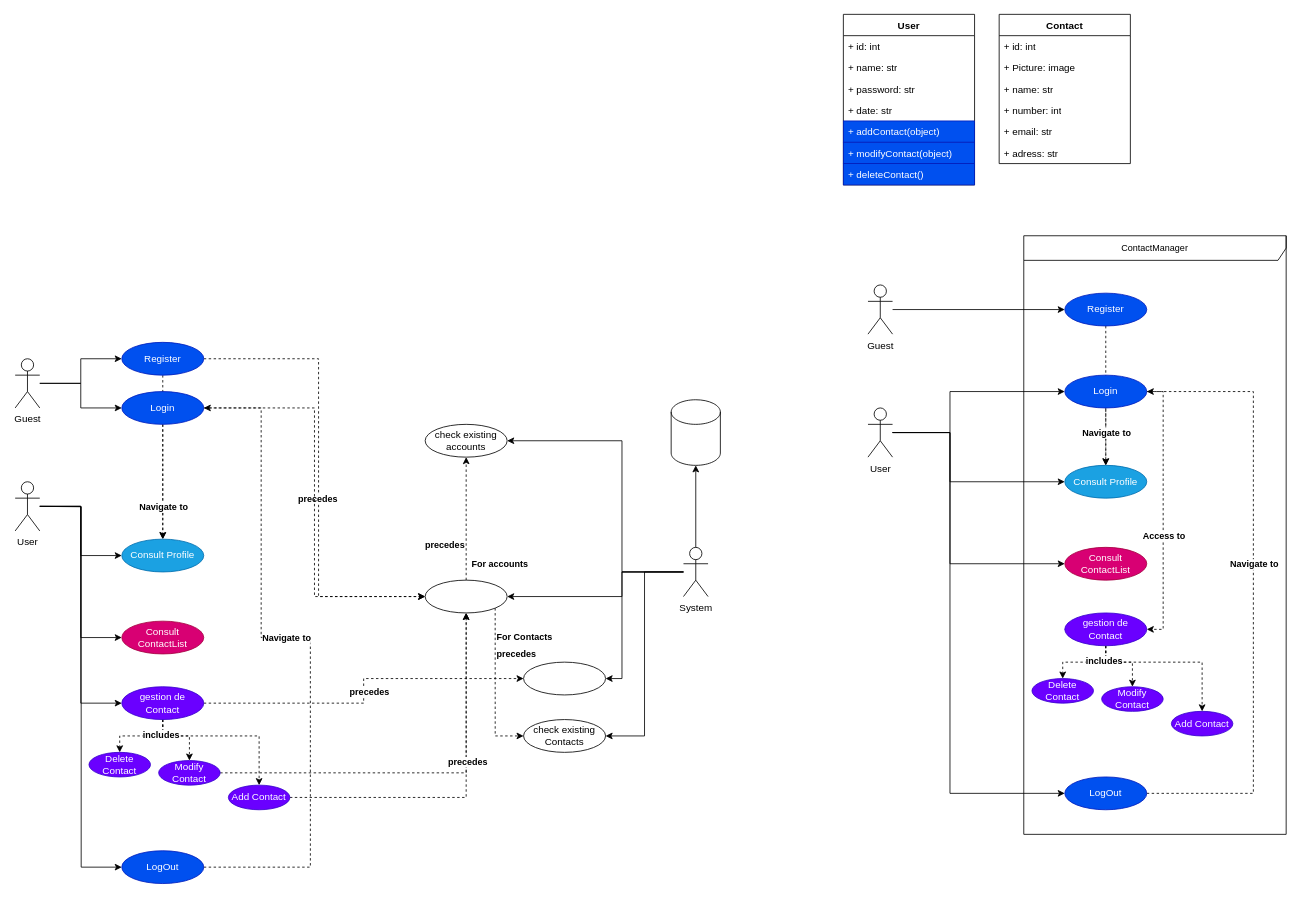
This 1301x898 diagram has some shape labels left out. The centre of each missing label's shape, as x and y in pixels:
"DataBase" goes at point (695, 432).
"Form-Validation" goes at point (465, 596).
"Update database" goes at point (564, 678).
